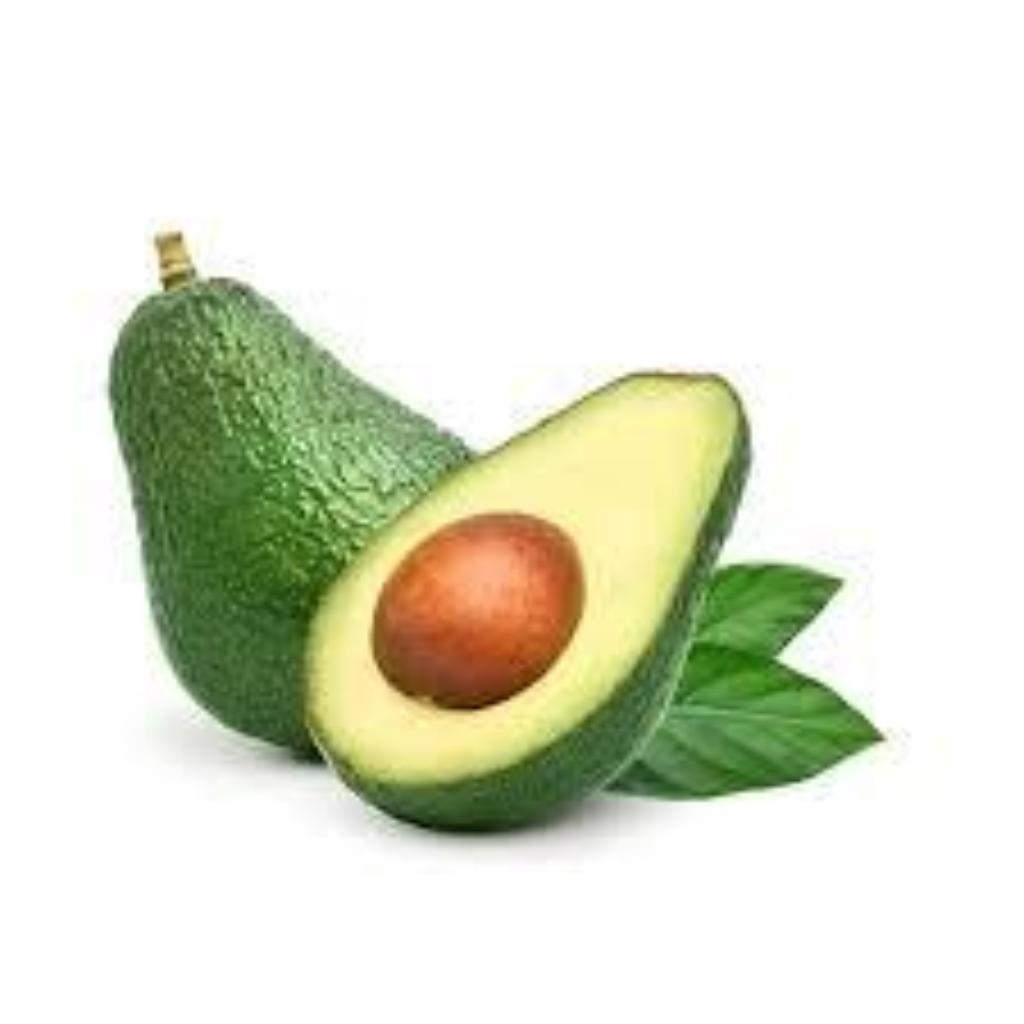cercospora: (105, 192, 446, 515)
